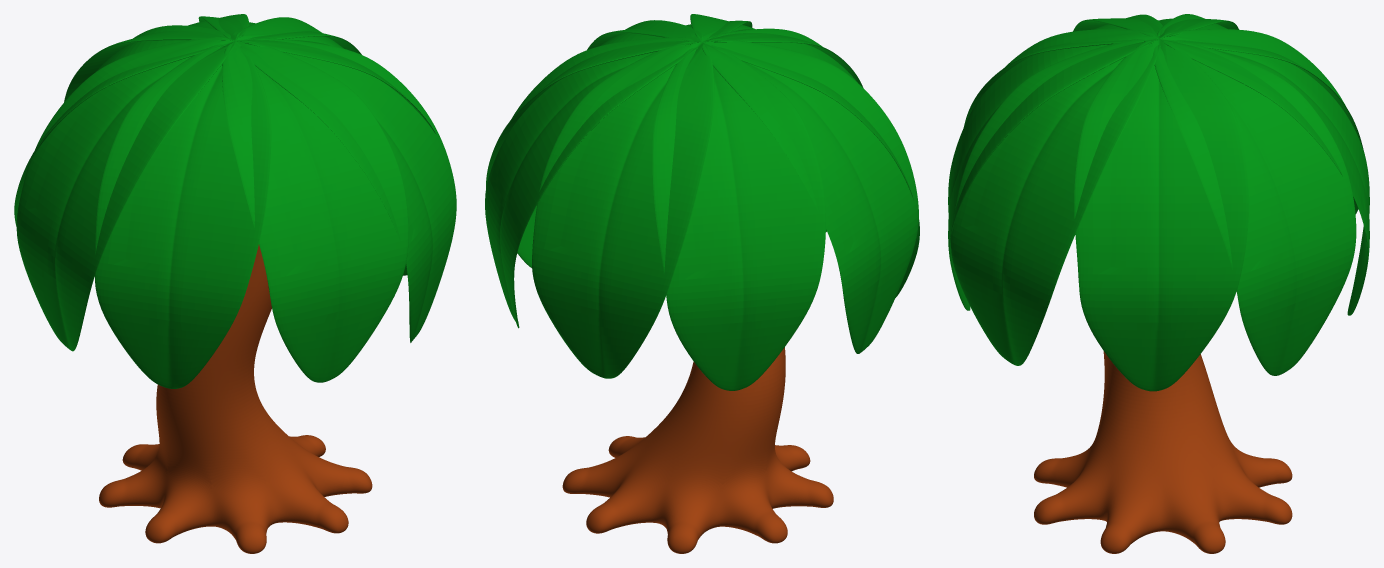
The model's file is DragonfallTree.fbx.
3 renders of one model, left to right at view 1: azimuth 30°, elevation 25°; view 2: azimuth 150°, elevation 25°; view 3: azimuth 270°, elevation 25°, orthographic.
Parts seen in each view (by area): view 1: Plane, Cylinder; view 2: Plane, Cylinder; view 3: Plane, Cylinder.
Boxes of the visible parts, bbox=[...] form: Plane: bbox=[14, 14, 456, 388]; Cylinder: bbox=[99, 244, 372, 553]; Plane: bbox=[485, 14, 919, 390]; Cylinder: bbox=[562, 347, 833, 553]; Plane: bbox=[948, 14, 1369, 391]; Cylinder: bbox=[1034, 351, 1292, 553].
Bounding box in the file's own units: 584 × 707 × 584.
